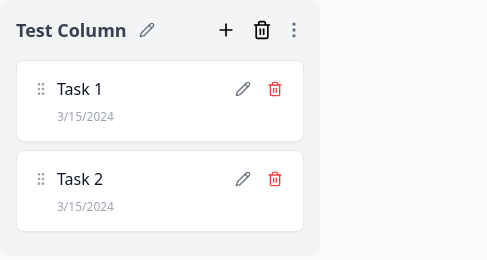
Test: Column Component › shows edit title form when edit button is clicked
Click the button named "Edit title" at (147, 30), box [135,18,159,42]
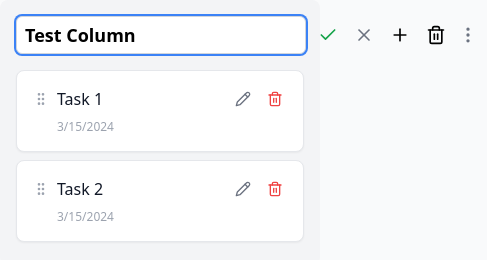
Now the field showing "Test Column" is shown, box [16,16,306,54]
Now the button named "Save title" is shown, box [314,16,342,54]
Now the button named "Cancel" is shown, box [350,16,378,54]
